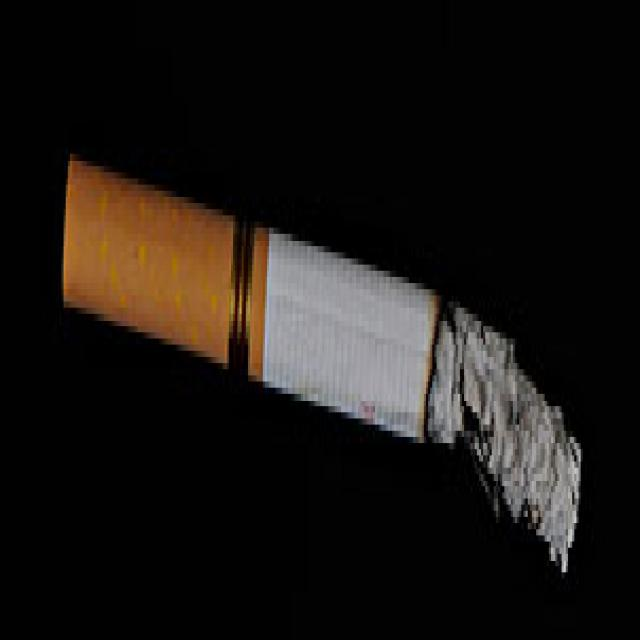smoking: (63, 152, 582, 560)
